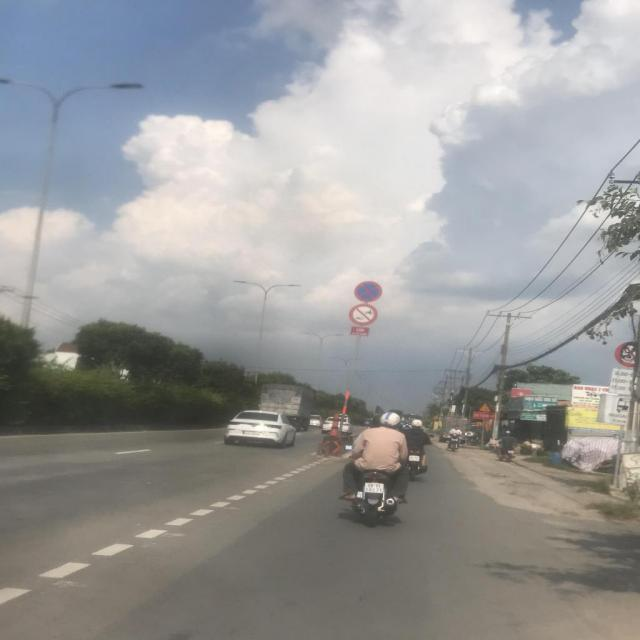cam_dung_xe_va_do_xe: (354, 281, 382, 302)
cam_xe_2_banh_va_xe_3_banh_co_dong_co: (349, 304, 378, 325)
di_cham: (478, 402, 491, 412)
giao_nhau_voi_duong_khong_uu_tien: (432, 416, 438, 420)
